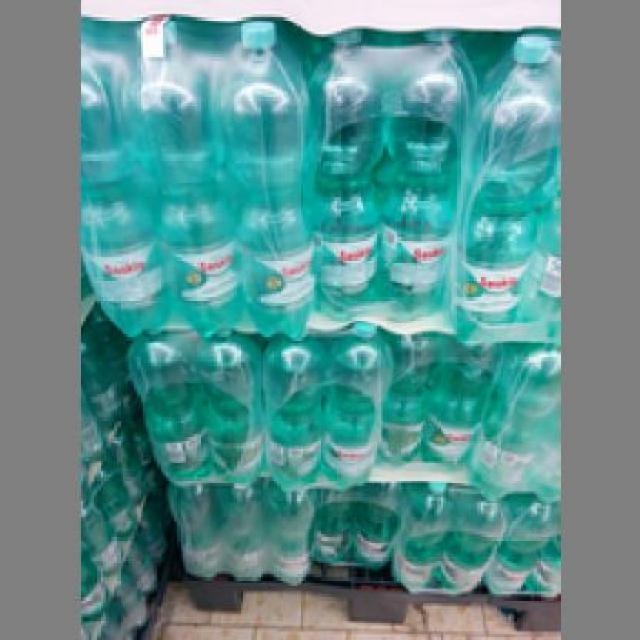Water: (114, 16, 240, 332), (206, 17, 314, 340), (445, 29, 558, 328), (380, 31, 469, 312), (300, 25, 380, 318)
